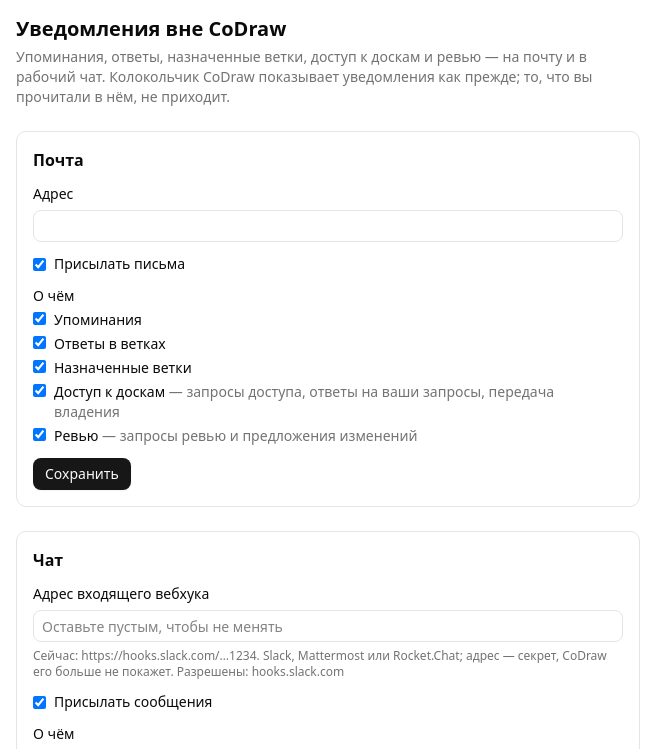
Test: NotificationSettingsPage › shows a webhook by its hint only, keeps it without a new address, and sends a test message
This screenshot has width=657, height=749.
Check: the form named "Чат" shows "Сейчас: https://hooks.slack.com/…1234", box [33, 647, 263, 664]
Check: the field labelled "Адрес входящего вебхука" is empty, box [33, 610, 623, 642]
Click the checkbox labelled "Присылать сообщения" at (40, 702), box [33, 696, 46, 708]
(page scrolled)
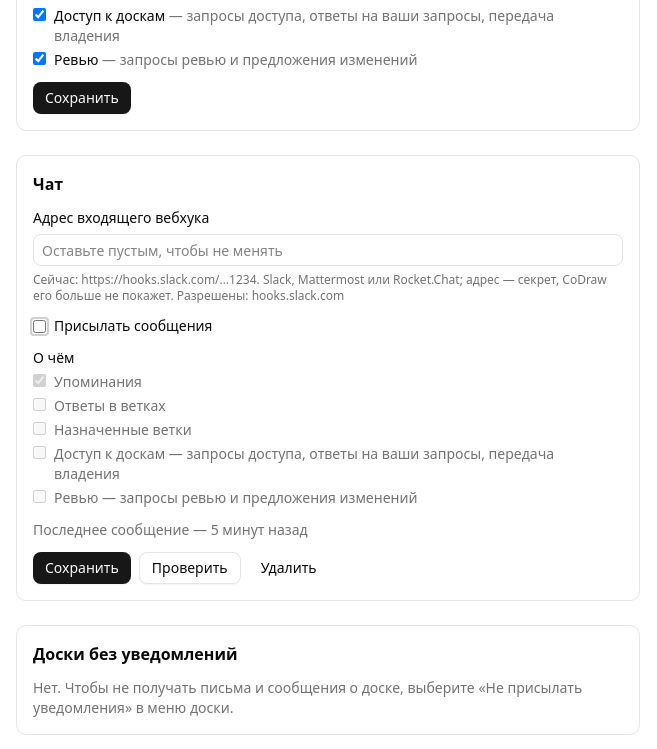
Click the button "Сохранить" below "Последнее сообщение" at (82, 568), box [33, 552, 131, 584]
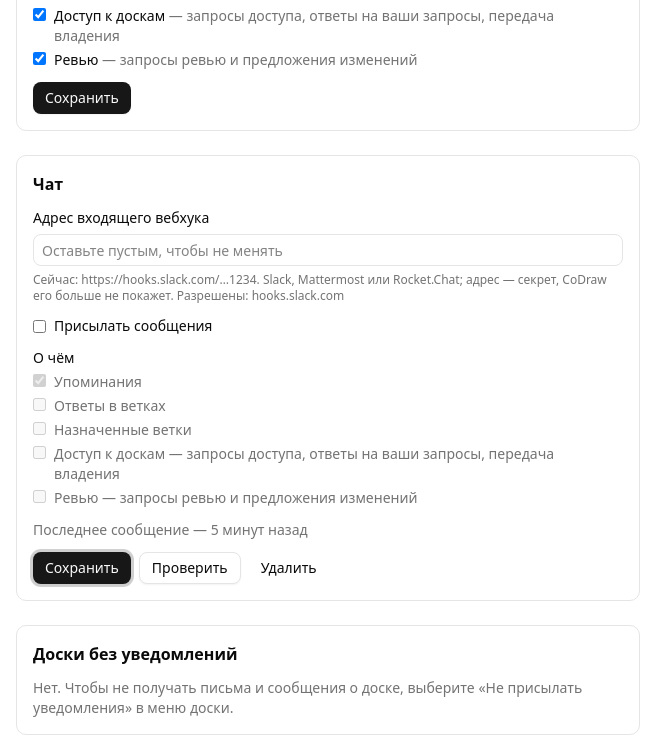
Click the button "Проверить" at (190, 568), box [139, 552, 241, 584]
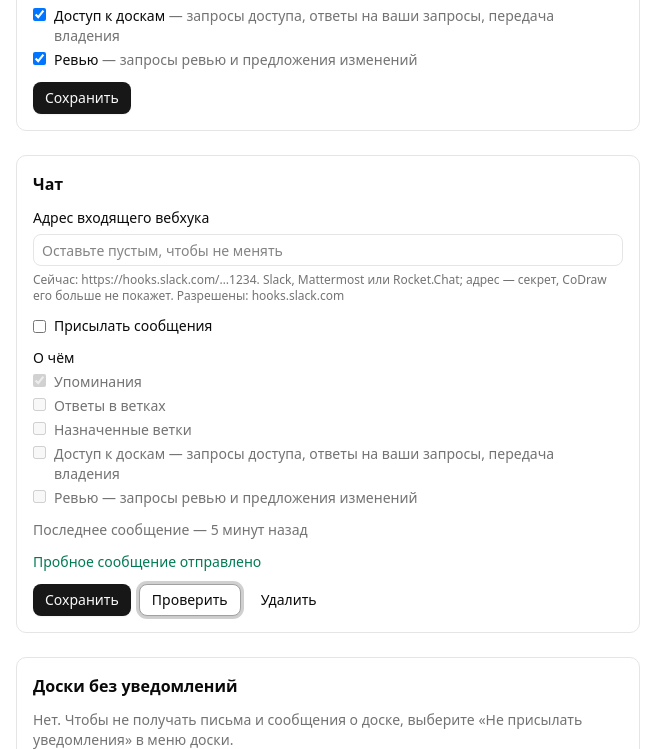
Check: the text "Пробное сообщение отправлено" is shown, box [33, 552, 261, 571]
Click the button "Проверить" at (190, 600), box [139, 584, 241, 616]
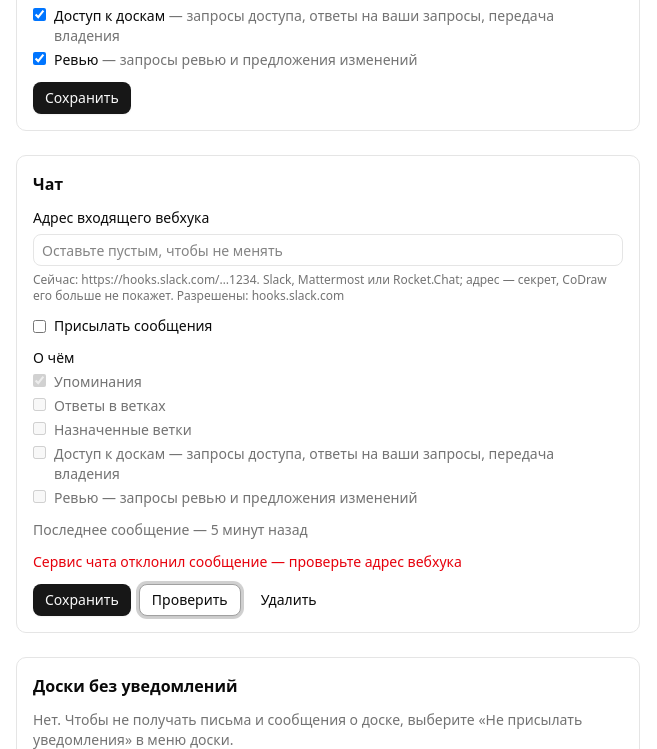
Check: the message reads "Сервис чата отклонил сообщение — проверьте адрес вебхука", box [33, 552, 462, 571]
